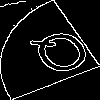Q: (25, 24, 100, 86)
